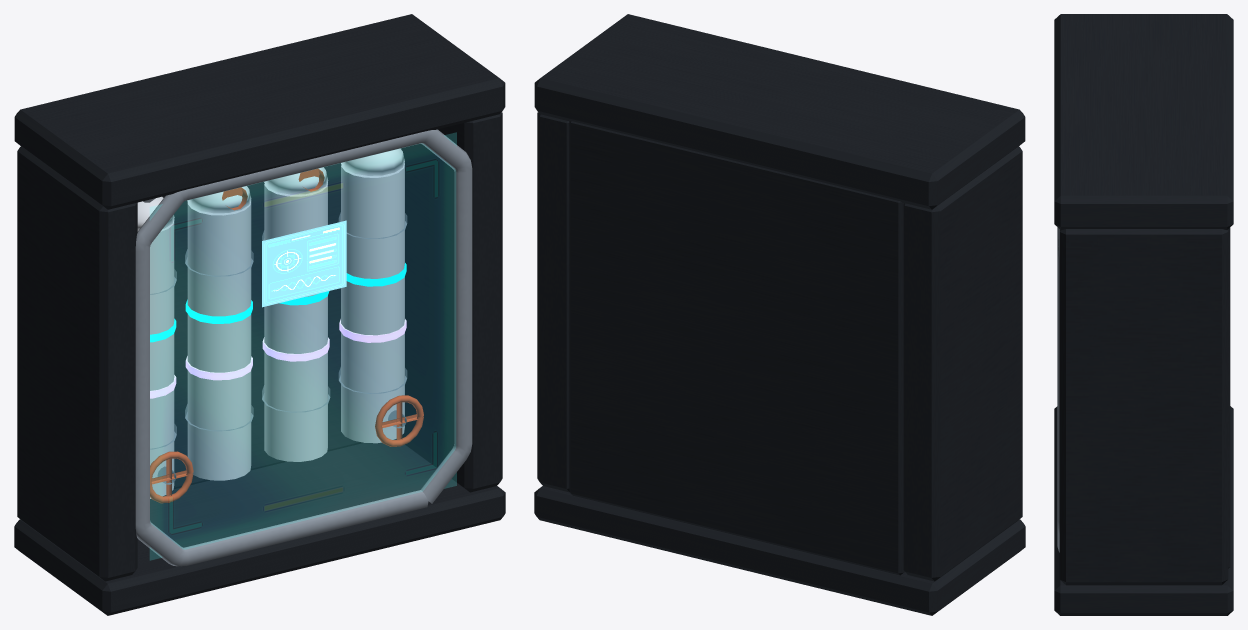
The model's file is engineering_coolant_manifold.glb.
3 renders of one model, left to right at view 1: azimuth 30°, elevation 25°; view 2: azimuth 150°, elevation 25°; view 3: azimuth 270°, elevation 25°, orthographic. The views are drawn at different scales.
Visible parts, largest first — view 1: CoolantManifold_GunmetalFrame, CoolantManifold_TranslucentInspectionShield, CoolantManifold_WhiteHeliumCylinders, CoolantManifold_BrushedSteelCrossFeedPipes, CoolantManifold_OLEDTelemetryGauge, CoolantManifold_SignalOrangeHandwheels, CoolantManifold_UVSupercoolRings, CoolantManifold_CyanCryoLevelRings; view 2: CoolantManifold_GunmetalFrame; view 3: CoolantManifold_GunmetalFrame, CoolantManifold_BrushedSteelCrossFeedPipes.
Part boxes in pixels (left/top/right/bottom): CoolantManifold_GunmetalFrame: left=14, top=14, right=505, bottom=615; CoolantManifold_TranslucentInspectionShield: left=150, top=133, right=456, bottom=559; CoolantManifold_WhiteHeliumCylinders: left=137, top=148, right=404, bottom=498; CoolantManifold_BrushedSteelCrossFeedPipes: left=135, top=129, right=472, bottom=566; CoolantManifold_OLEDTelemetryGauge: left=262, top=220, right=346, bottom=307; CoolantManifold_SignalOrangeHandwheels: left=150, top=168, right=423, bottom=503; CoolantManifold_UVSupercoolRings: left=150, top=319, right=406, bottom=398; CoolantManifold_CyanCryoLevelRings: left=150, top=263, right=406, bottom=342; CoolantManifold_GunmetalFrame: left=534, top=14, right=1025, bottom=615; CoolantManifold_GunmetalFrame: left=1054, top=14, right=1233, bottom=615; CoolantManifold_BrushedSteelCrossFeedPipes: left=1057, top=227, right=1059, bottom=552.
Bounding box in the file's own units: 2.1 × 2.2 × 0.85.
8 materials, 8 textured.
